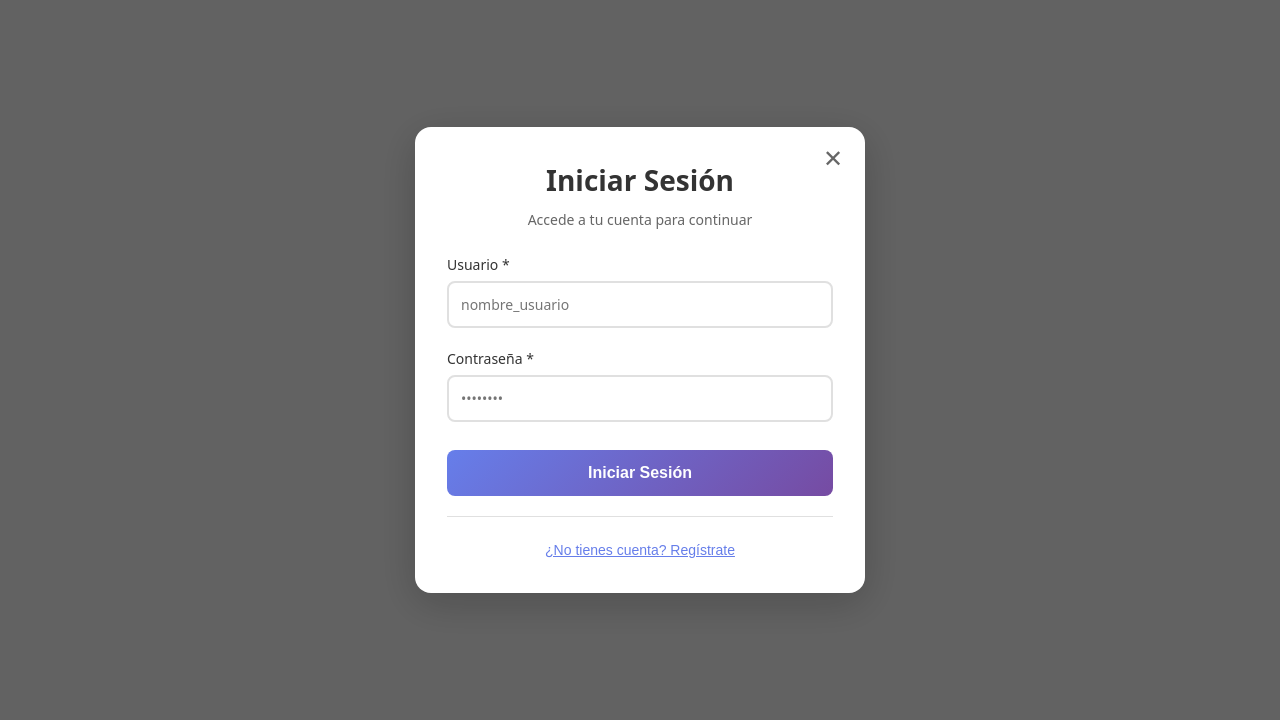
Test case: LoginPopup › shows validation errors for empty login form
The width and height of the screenshot is (1280, 720).
Click the button "Iniciar Sesión": (640, 473) [447,450,833,496]
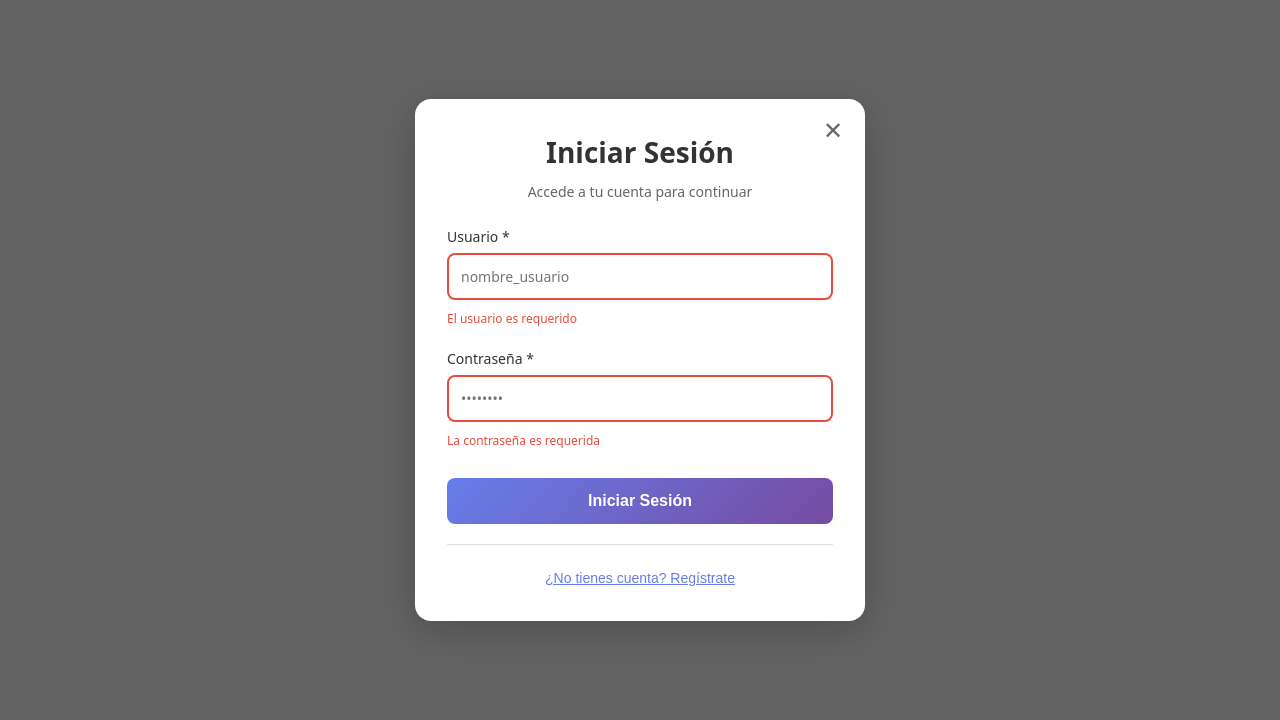
Result: the text "El usuario es requerido" is shown at [447,310,577,327]
Result: the text "La contraseña es requerida" is shown at [447,432,600,449]
